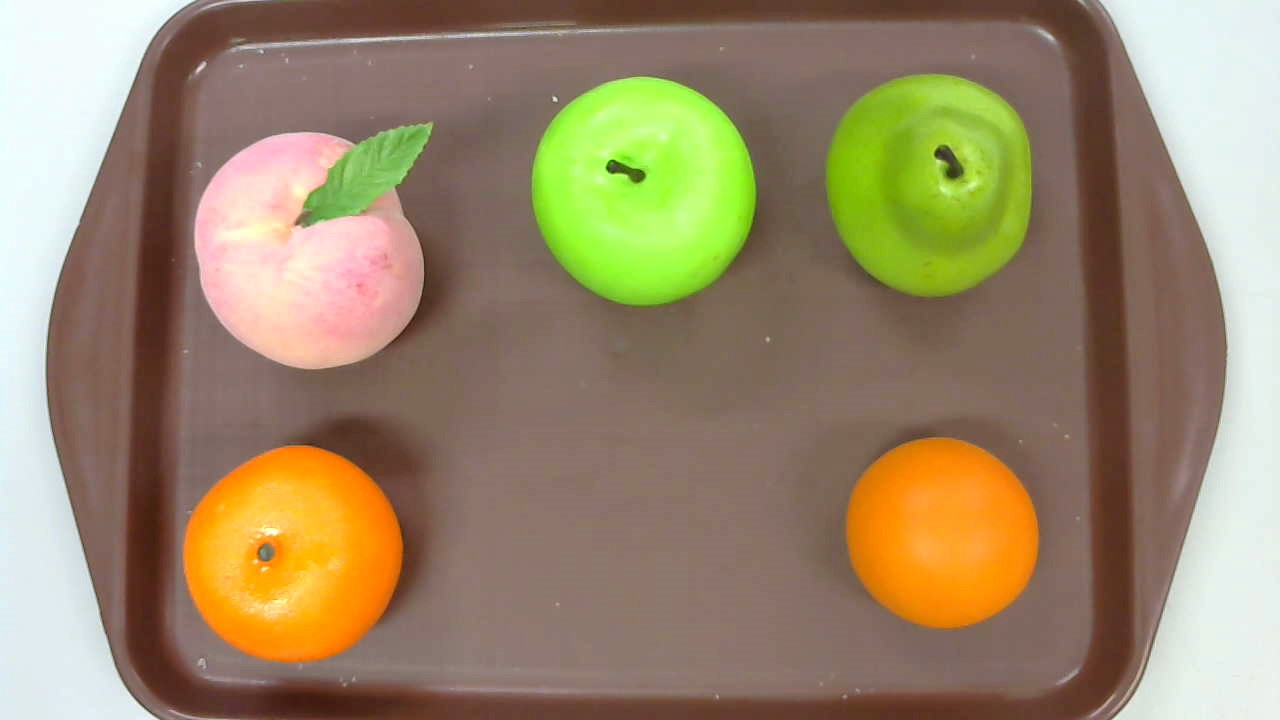bun: (845, 436, 1038, 629)
green apple: (532, 77, 757, 306)
green pear: (824, 74, 1032, 299)
orange: (182, 444, 403, 664)
peach: (193, 121, 434, 372)
